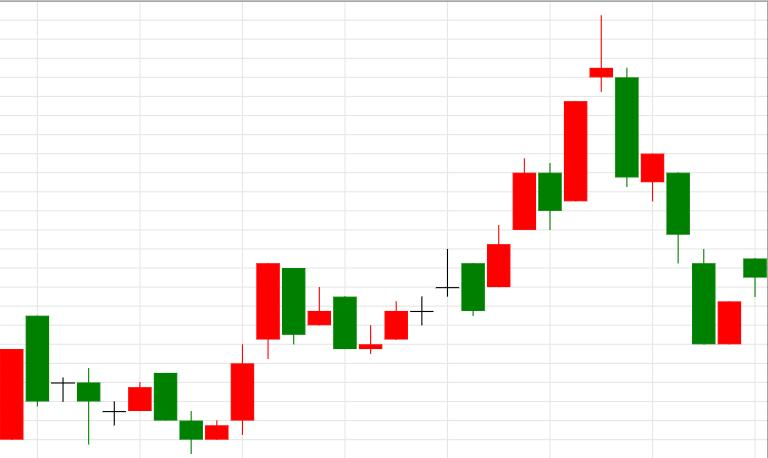evening_star_fall: (359, 15, 639, 354)
